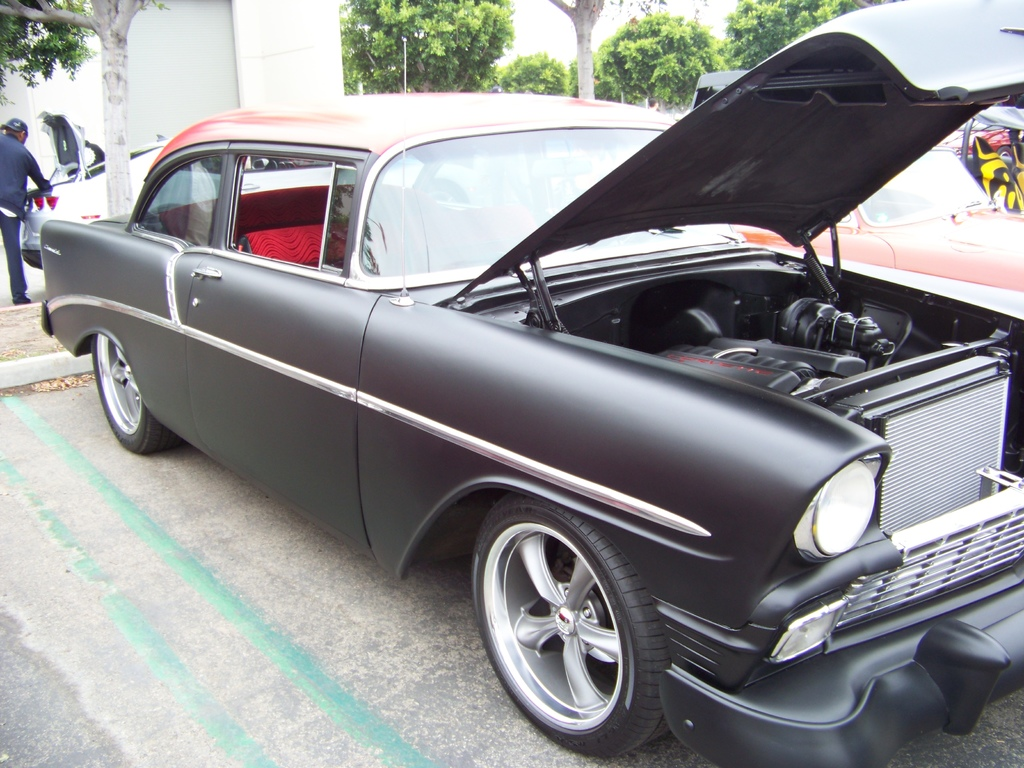Car: (37, 0, 1024, 768)
